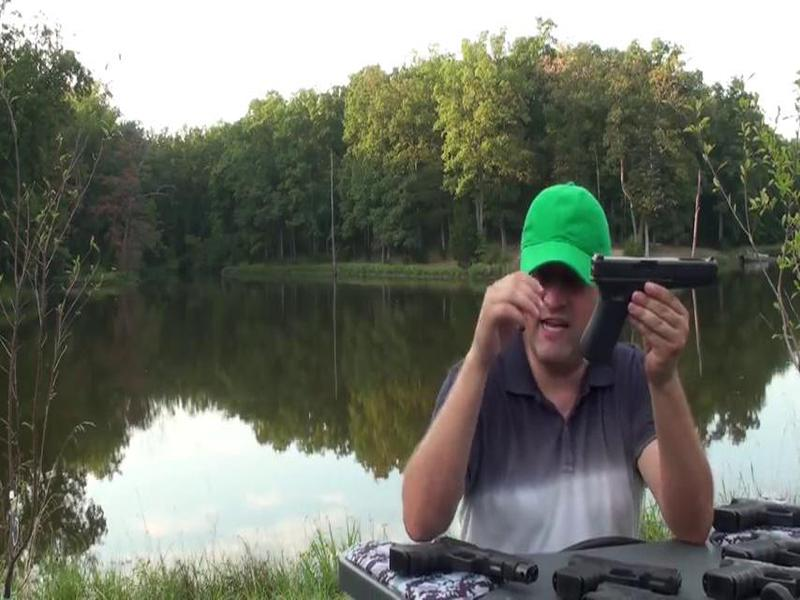Pistola: (563, 234, 738, 371)
